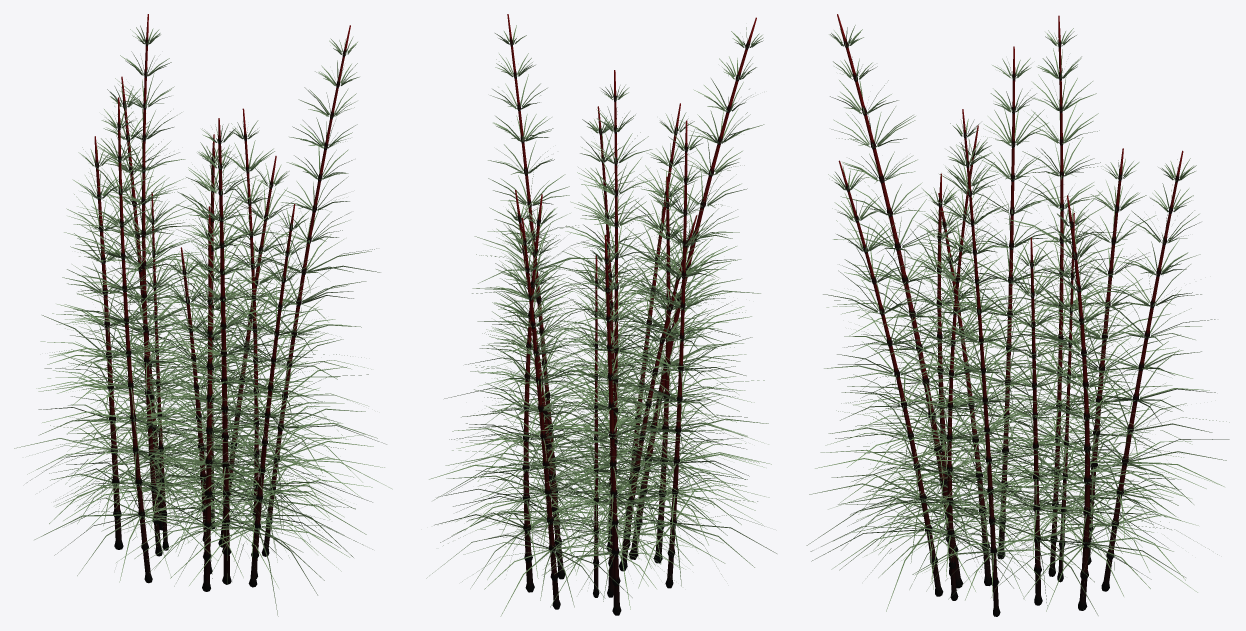
Rendered from horsetail_v03.glb.
3 renders of one model, left to right at view 1: azimuth 30°, elevation 25°; view 2: azimuth 150°, elevation 25°; view 3: azimuth 270°, elevation 25°, orthographic. The views are drawn at different scales.
Parts seen in each view (by area): view 1: horsetail_v03; view 2: horsetail_v03; view 3: horsetail_v03.
Boxes of the visible parts, x1,y1,x2,y2 form: horsetail_v03: [14, 14, 392, 616]; horsetail_v03: [426, 14, 776, 616]; horsetail_v03: [806, 14, 1229, 616].
Bounding box in the file's own units: 0.4658 × 0.7703 × 0.5336.
2 materials, 2 textured.
